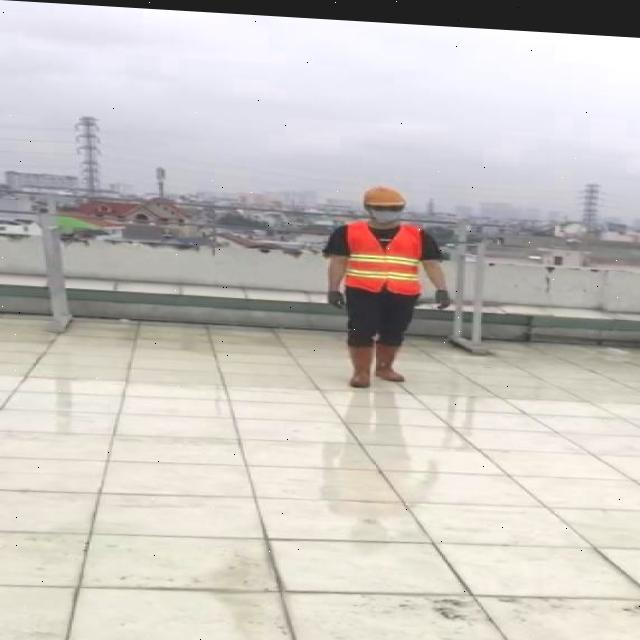Gloves: (328, 286, 345, 305), (435, 283, 450, 304)
Helmet: (363, 179, 405, 225)
Safety-Boot: (374, 336, 404, 377), (348, 338, 373, 383)
Safety-Vest: (342, 214, 423, 292)
